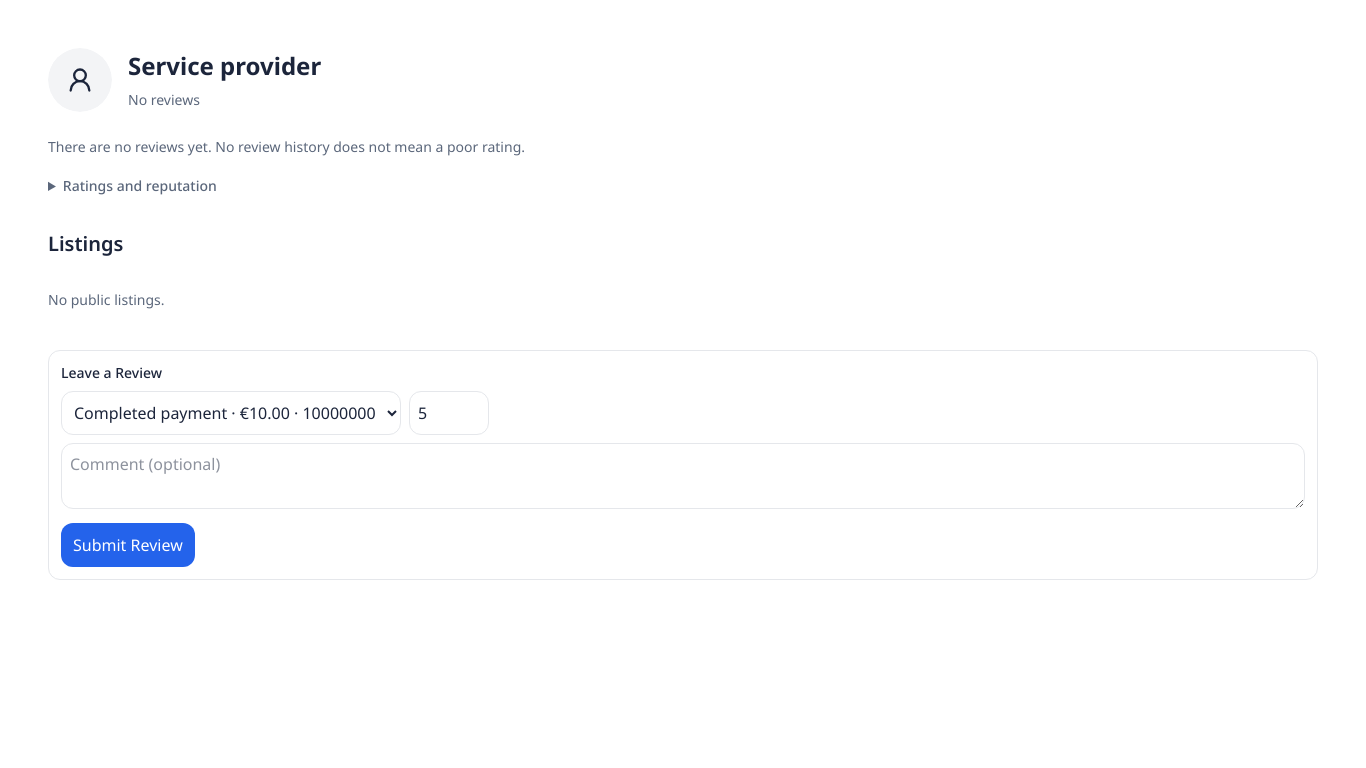
Test: Public profile reviews use the actual completed payment › keeps separate payments for the same listing and supports a hidden completed listing
Select "Completed payment · €15.00 · 20000000" in the dropdown named "Completed payment" at point(231, 412), box [61,390,401,434]
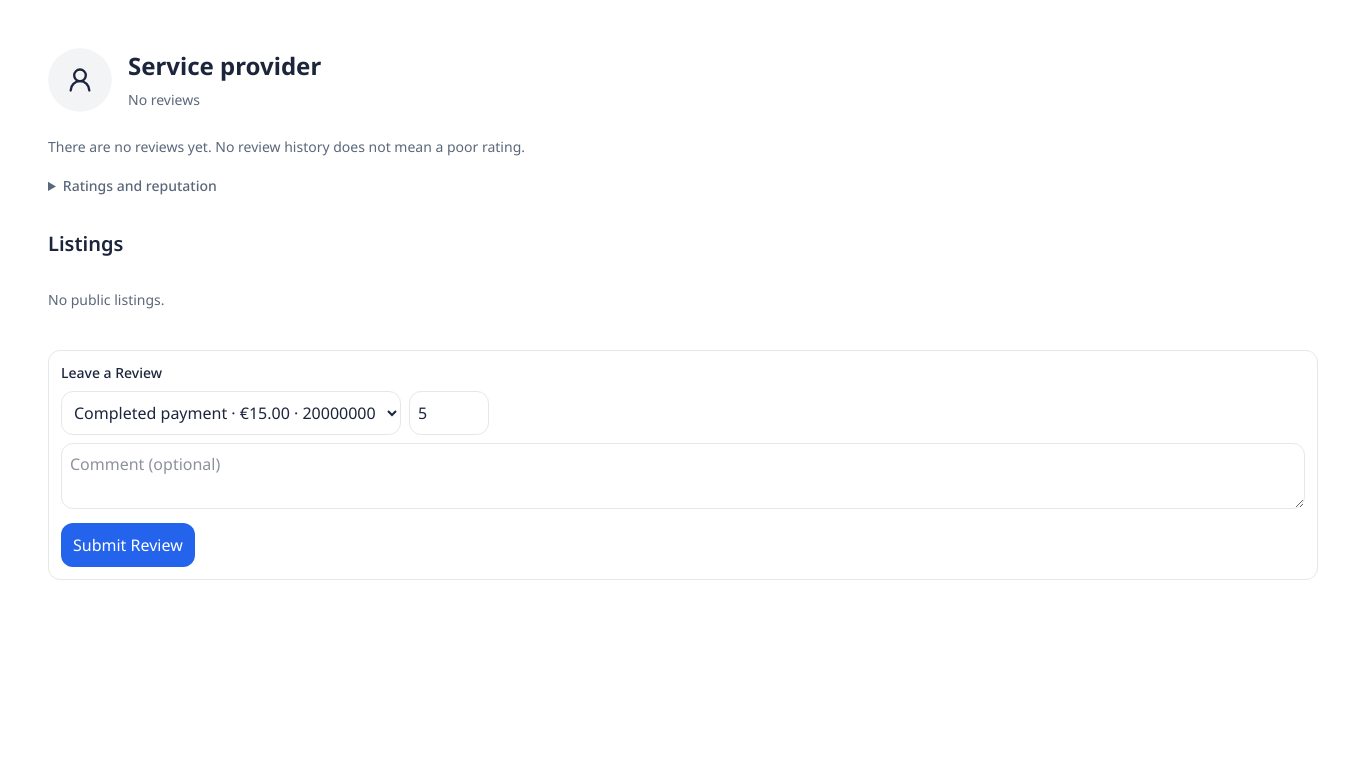
Click the button "Submit Review" at point(128, 544), box [61,522,195,566]
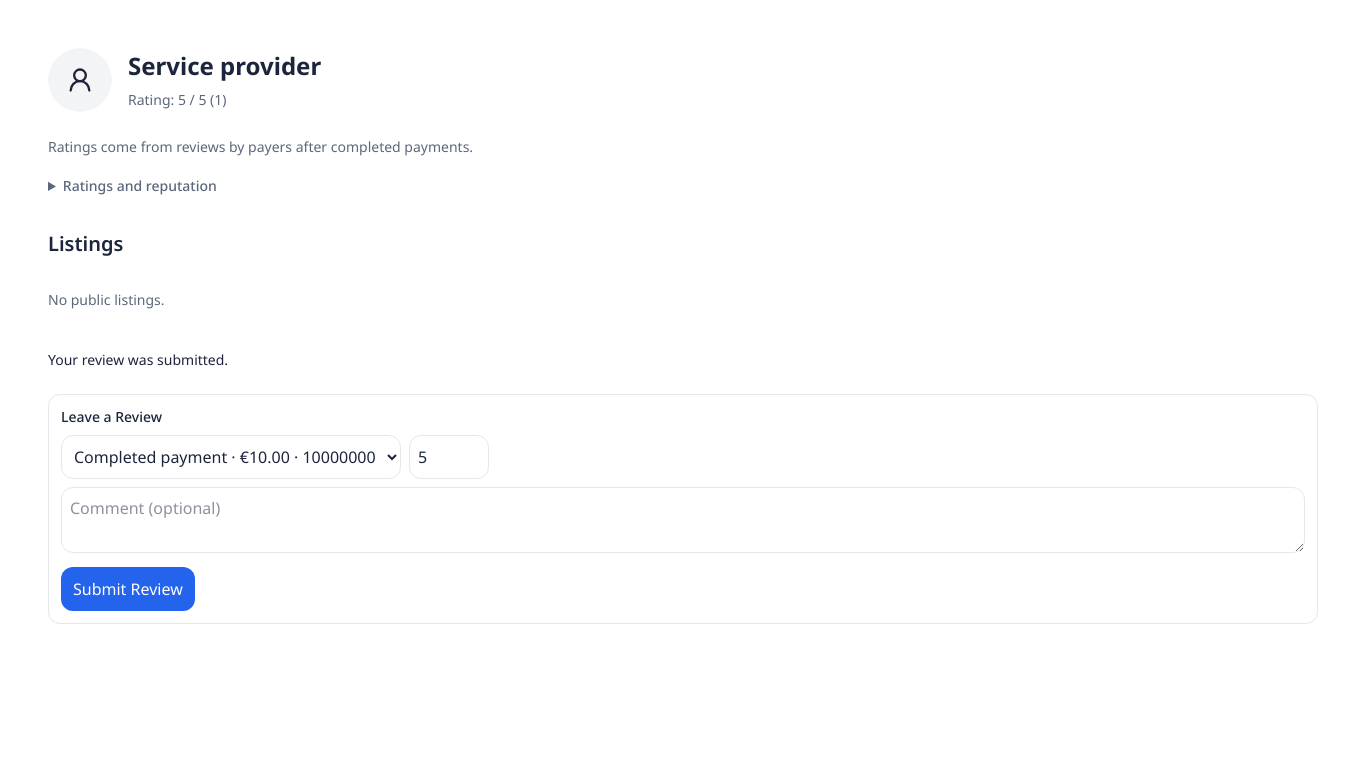
expect the message shows "Your review was submitted": met, box [48,350,228,368]
